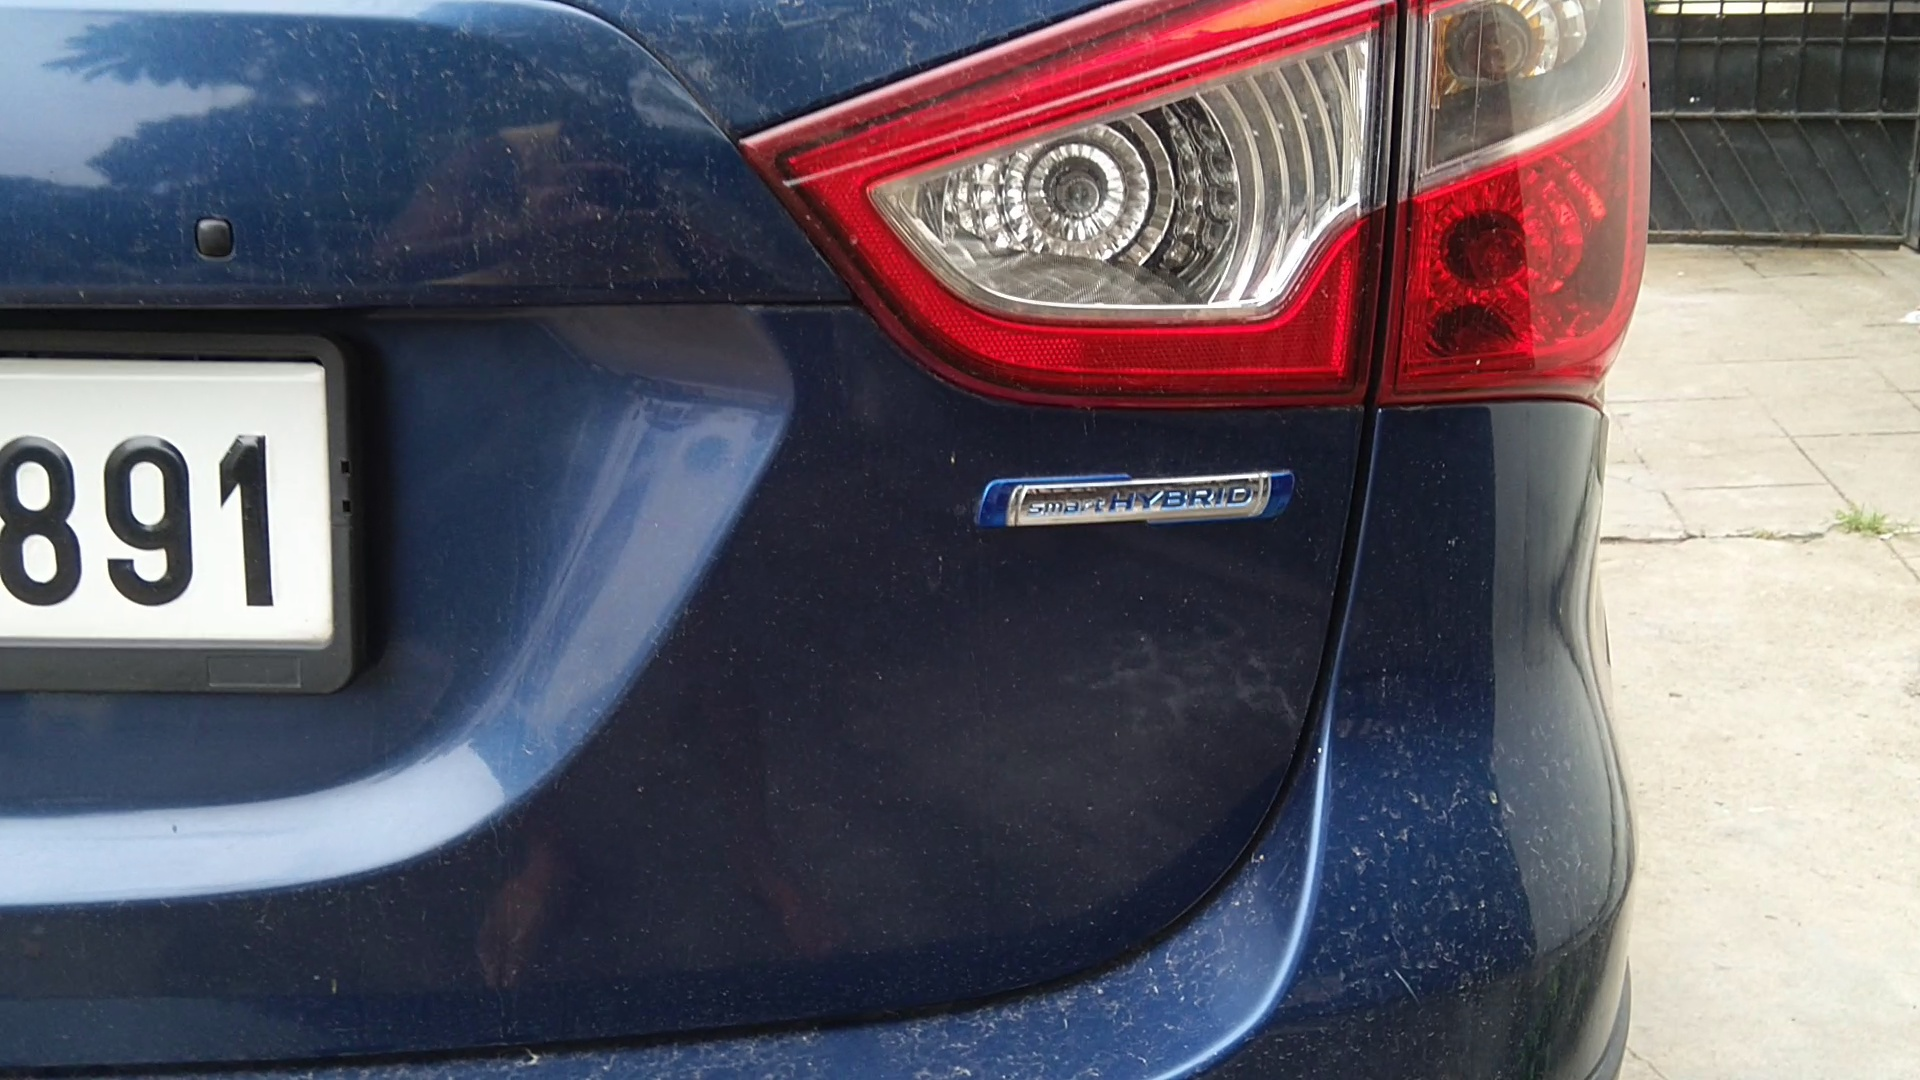shvs: (961, 443, 1329, 578)
